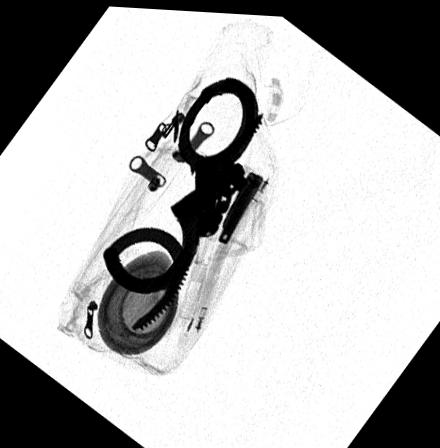HandCuffs: (102, 75, 264, 329)
